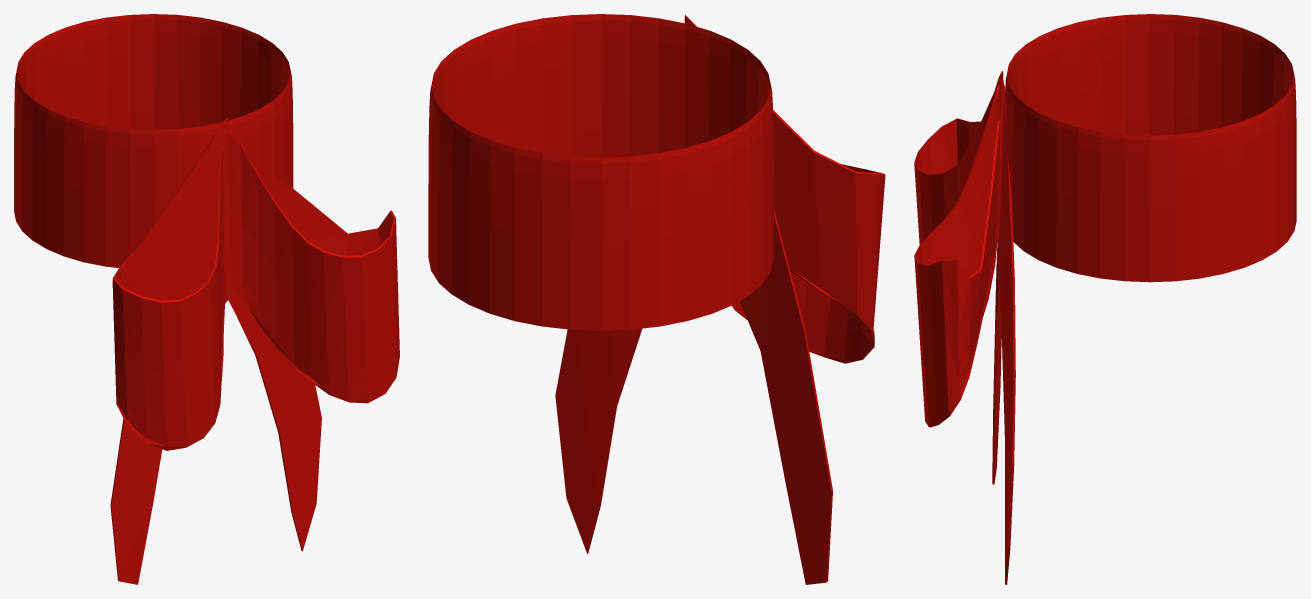
Rendered from bant_red.dae.
The picture shows the model from 3 angles, left to right: view 1: azimuth 30°, elevation 25°; view 2: azimuth 150°, elevation 25°; view 3: azimuth 270°, elevation 25°; orthographic projection. The views are drawn at different scales.
Visible parts, largest first — view 1: Circle; view 2: Circle; view 3: Circle.
Boxes of the visible parts, x1,y1,x2,y2 form: Circle: (14,14,399,584); Circle: (428,14,885,584); Circle: (914,14,1296,584).
Size of the model in its own units: 0.8977 by 1 by 1.37.
